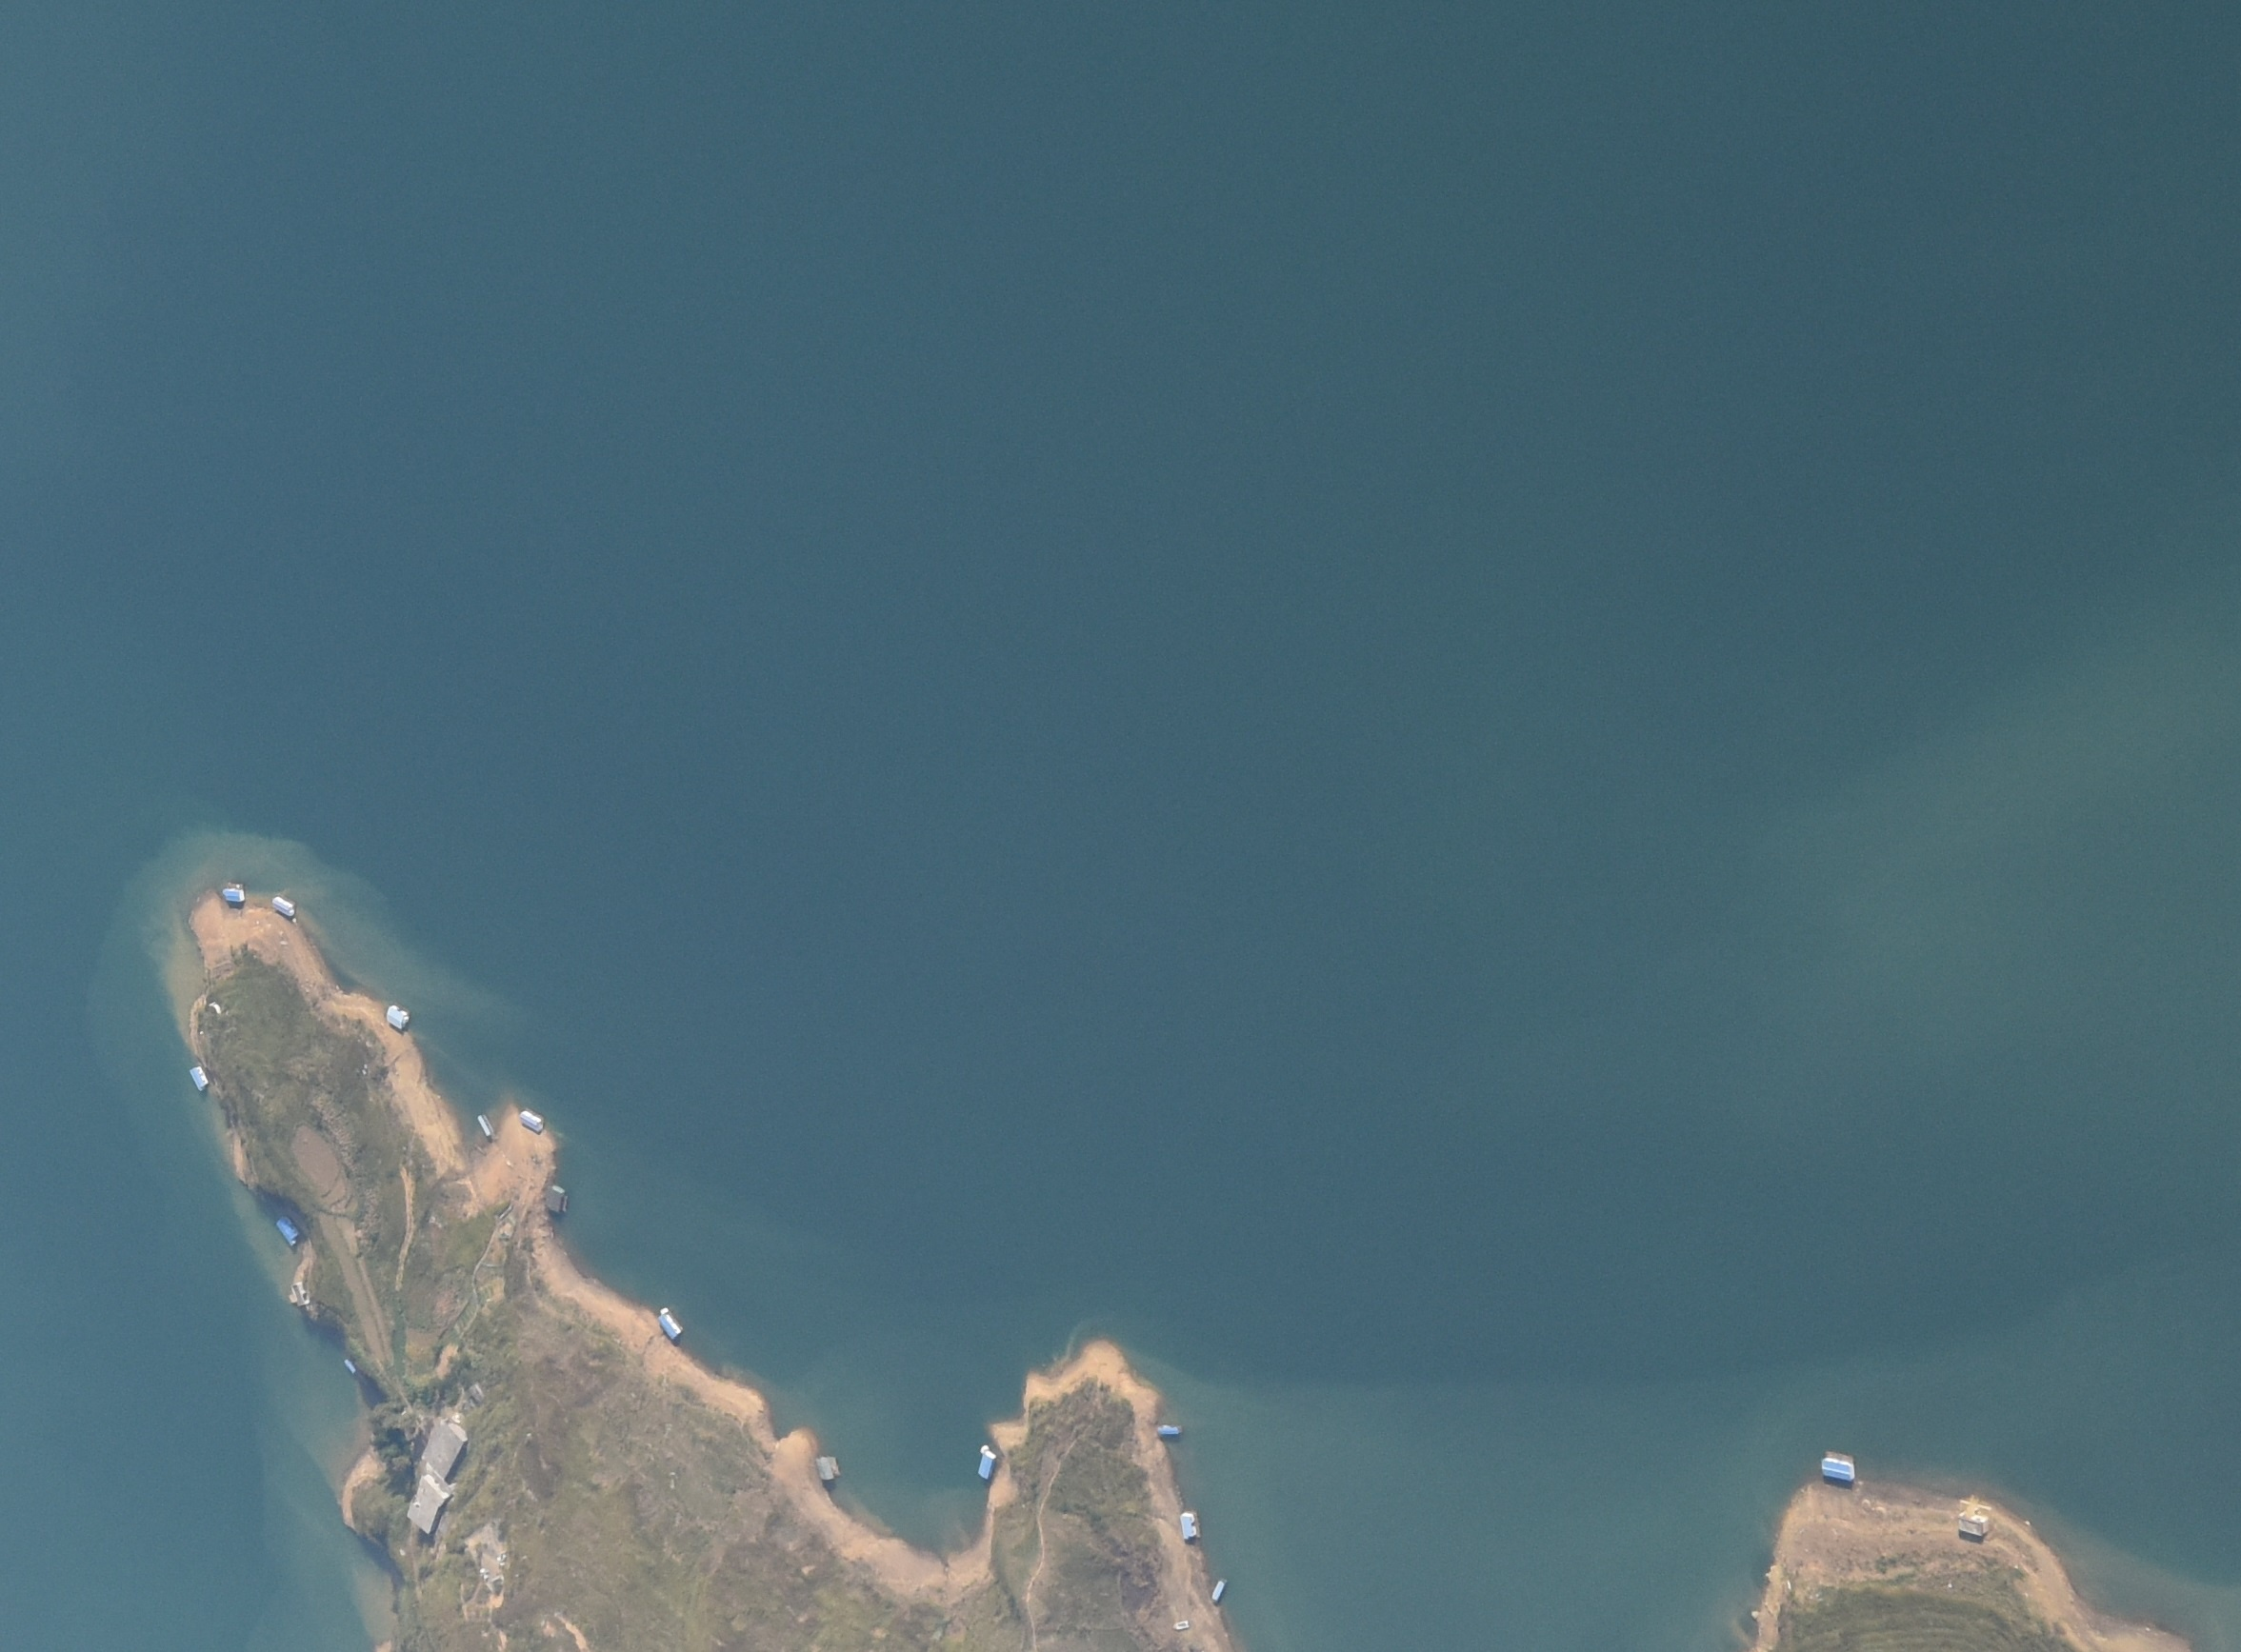building: (421, 1417, 466, 1478), (404, 1473, 447, 1534), (1956, 1515, 1987, 1537), (289, 1282, 310, 1308)
prefabricated-house: (1822, 1450, 1856, 1482), (273, 1216, 298, 1247), (658, 1306, 682, 1337), (816, 1454, 840, 1482), (978, 1447, 999, 1478), (1178, 1509, 1199, 1541), (188, 1064, 209, 1094), (386, 1005, 411, 1029), (270, 896, 296, 916), (520, 1108, 543, 1130), (546, 1186, 567, 1210), (223, 885, 244, 903), (1154, 1424, 1181, 1436), (343, 1358, 357, 1376)
ship: (1211, 1577, 1228, 1605), (477, 1113, 494, 1139), (1171, 1619, 1190, 1629)
